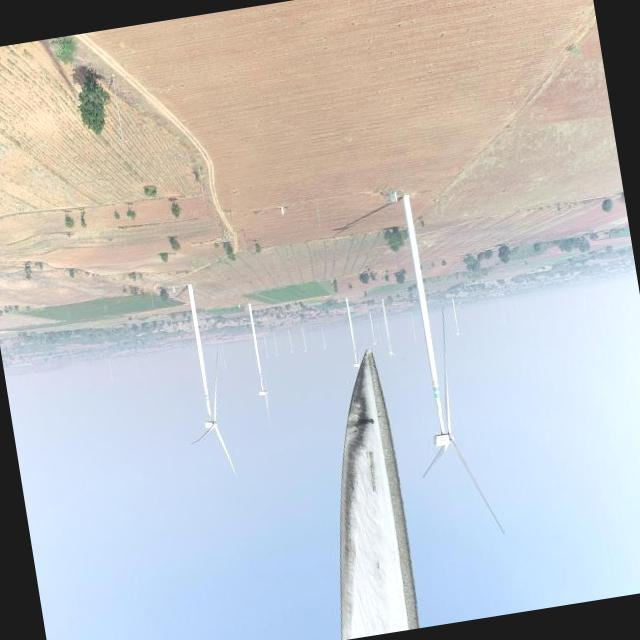Dirt: (340, 356, 420, 638)
Oil LEAKAGE: (339, 353, 373, 567)
Pin Hole: (359, 416, 379, 428), (371, 558, 386, 573)
